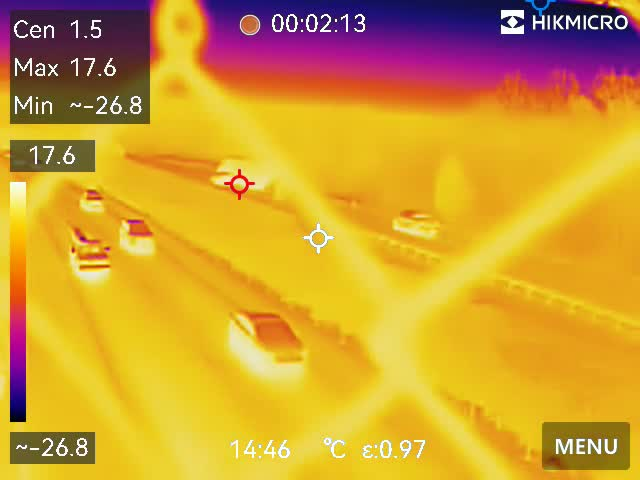lightTruck: (62, 222, 111, 281)
vehicle: (221, 307, 303, 374), (118, 210, 162, 257), (385, 208, 445, 237), (79, 187, 110, 220)
